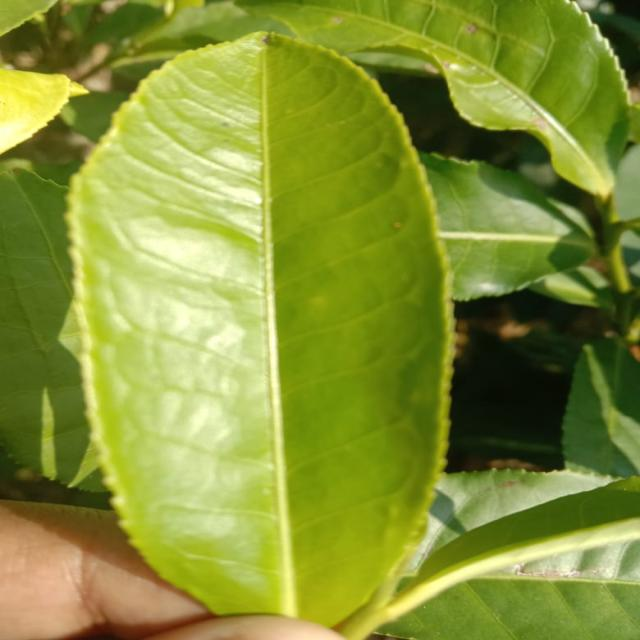Category B 2-4 days: (54, 17, 463, 637)
